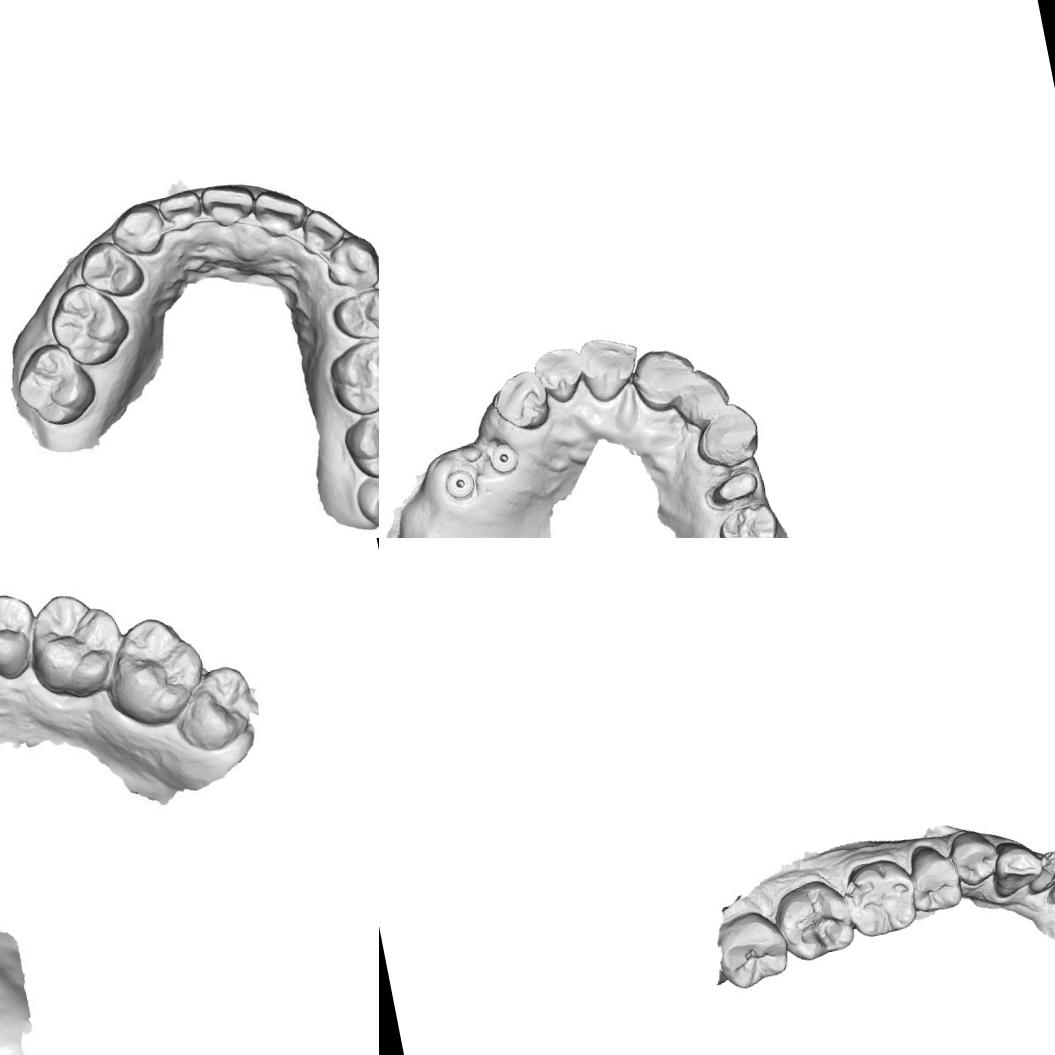canine: (689, 397, 765, 472), (486, 366, 554, 436), (106, 198, 170, 262), (986, 834, 1047, 900), (319, 234, 379, 294)
crown: (698, 458, 764, 512)
implant: (485, 438, 523, 477), (442, 465, 480, 503)
incisor: (574, 328, 647, 406), (628, 341, 702, 416), (667, 360, 734, 430), (528, 342, 592, 408), (249, 184, 311, 244), (196, 178, 262, 232), (293, 204, 349, 256), (156, 186, 206, 233), (1021, 845, 1055, 896), (1043, 865, 1055, 905)
molar: (23, 586, 132, 700), (105, 612, 210, 727), (40, 276, 136, 374), (8, 336, 102, 432), (766, 872, 858, 966), (176, 661, 264, 751), (708, 904, 792, 996), (838, 853, 922, 941), (322, 332, 379, 421), (341, 401, 379, 483), (349, 466, 379, 536)
premolar: (75, 234, 150, 306), (902, 839, 965, 916), (0, 587, 43, 687), (944, 824, 1004, 890), (327, 283, 379, 346), (713, 497, 780, 538)
